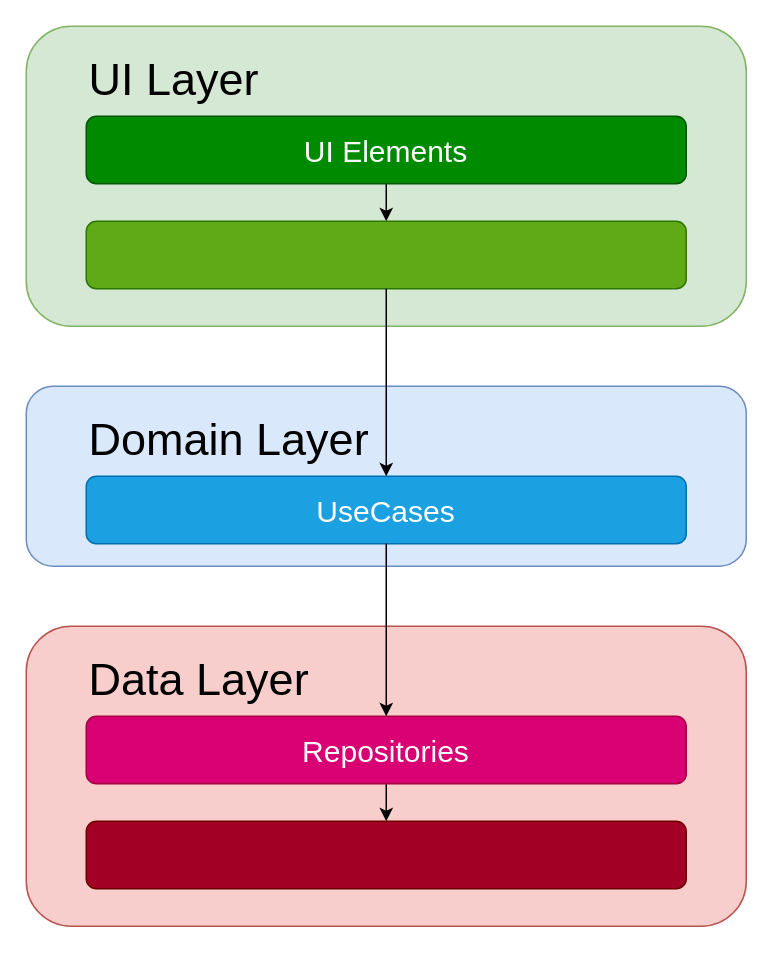
This 773x953 diagram has some shape labels left out. Each missing label, with the box of its shape:
Data Sources: (85, 820, 686, 889)
ViewModels: (85, 220, 686, 289)
